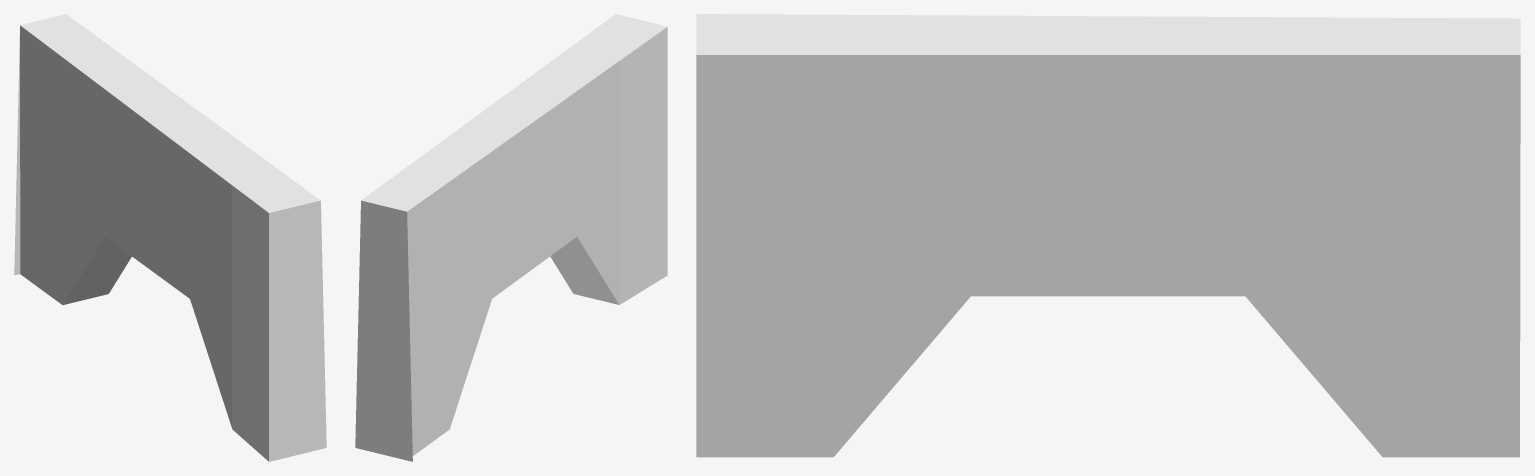
File: Thresher-Room-Door-Top.obj
3 views of the same model, side by side, from view 1: azimuth 30°, elevation 25°; view 2: azimuth 150°, elevation 25°; view 3: azimuth 270°, elevation 25° (orthographic). The views are drawn at different scales.
Parts seen in each view (by area): view 1: Thresher-Room-Door-Top; view 2: Thresher-Room-Door-Top; view 3: Thresher-Room-Door-Top.
Part boxes in pixels (x1,y1,x2,y2): Thresher-Room-Door-Top: (14, 14, 326, 461); Thresher-Room-Door-Top: (355, 14, 667, 461); Thresher-Room-Door-Top: (696, 14, 1520, 457).
Bounding box in the file's own units: 1 × 4.12 × 7.66.
